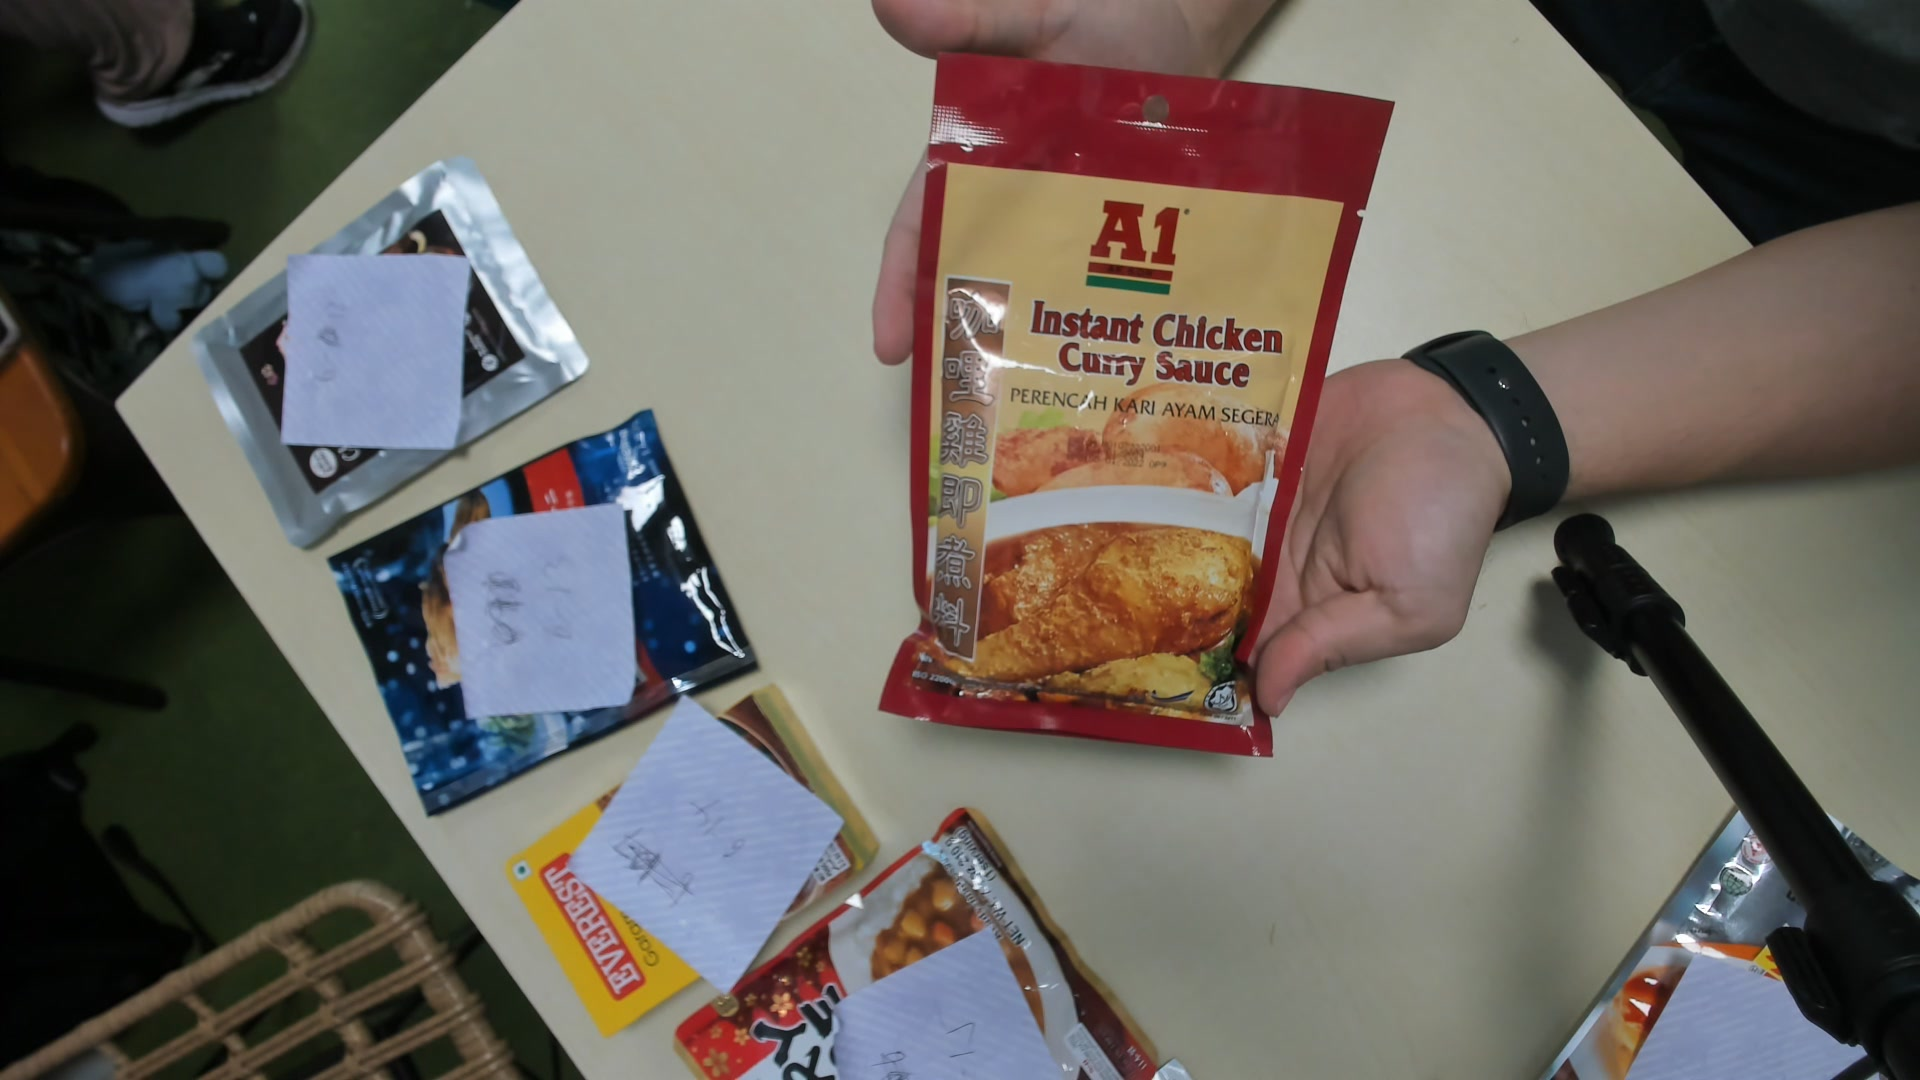CurryPastePowderSauce_200-299g_Halal_NonHealthy: (906, 55, 1346, 758)
